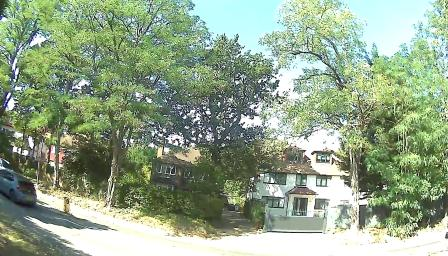Cars: (0, 155, 44, 211)
